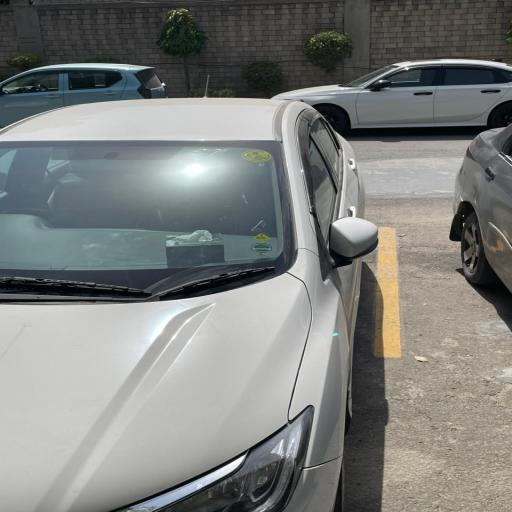bnu_sticker: (242, 148, 272, 162)
